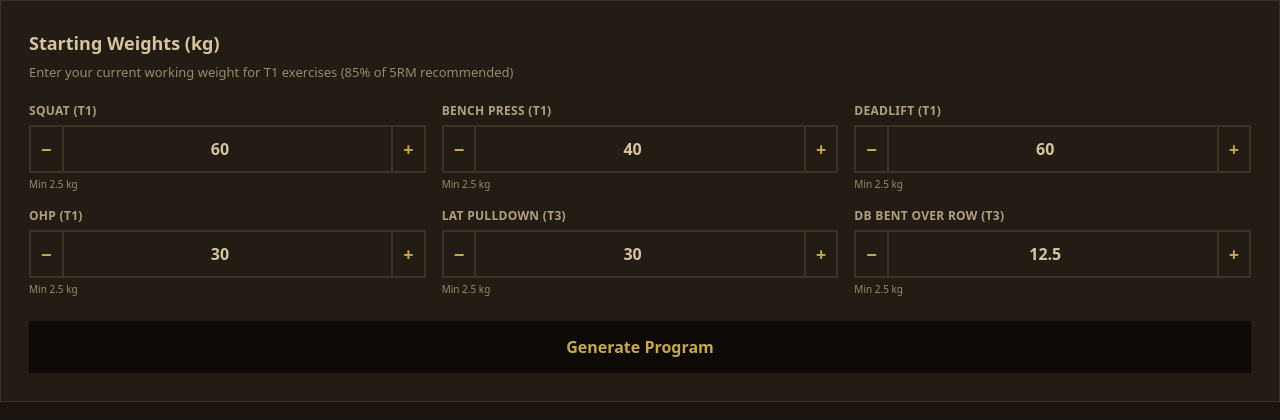
Scenario: SetupForm › +/- weight adjustment › should increase weight when + button is clicked
Click the button named "Increase Squat (T1)".
click(410, 148)  # box 393,124 -> 426,172
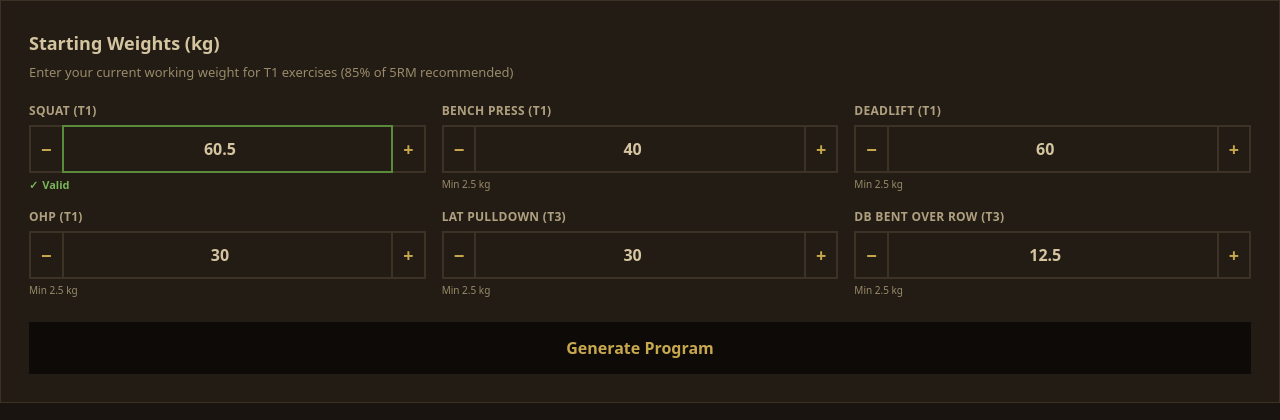
Now the number field labelled "Squat (T1)" holds "60.5", box 62,124 -> 393,172
